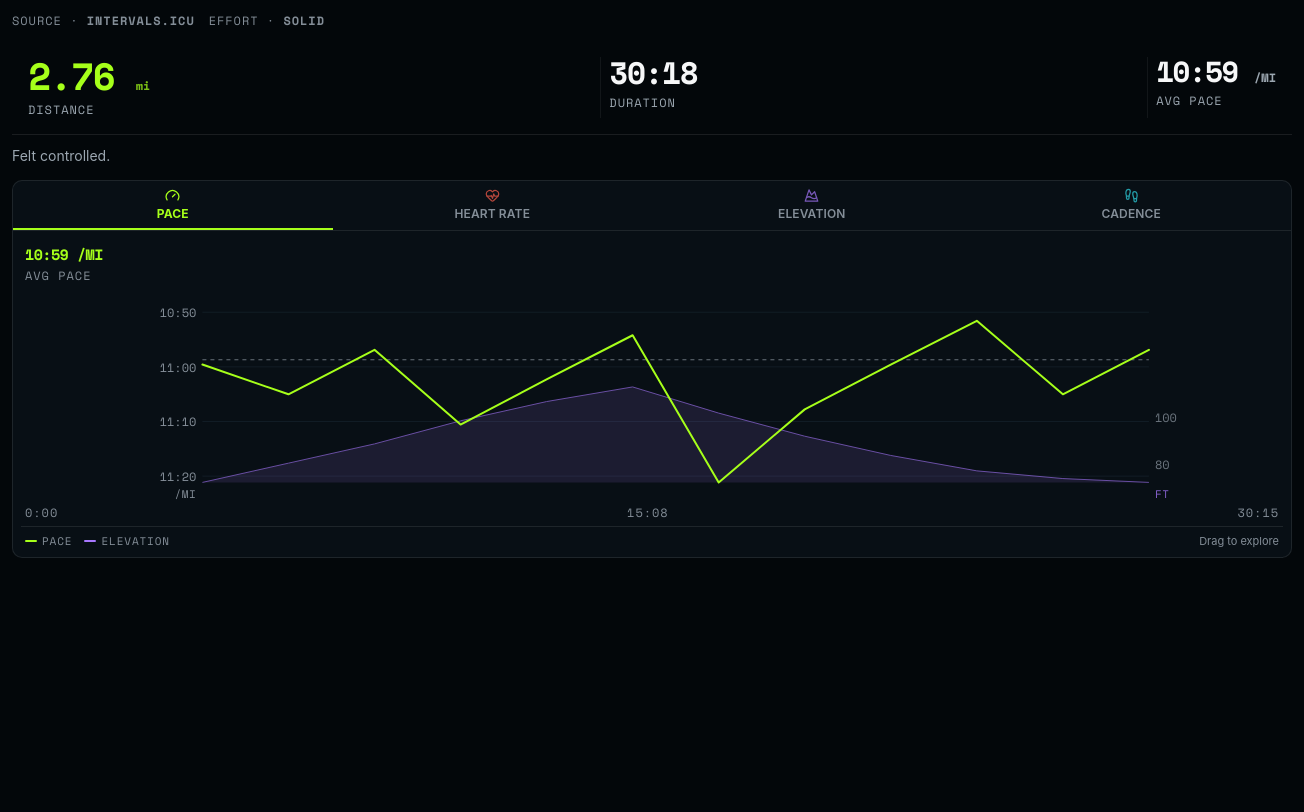
Test: chart scrubbing › draws a crosshair and a marker for the selected point, and clears both on a tap away
The width and height of the screenshot is (1304, 812).
Press the mouse on the slider with class "activity-chart__scrub" at (676, 397), box [202,292,1149,502]
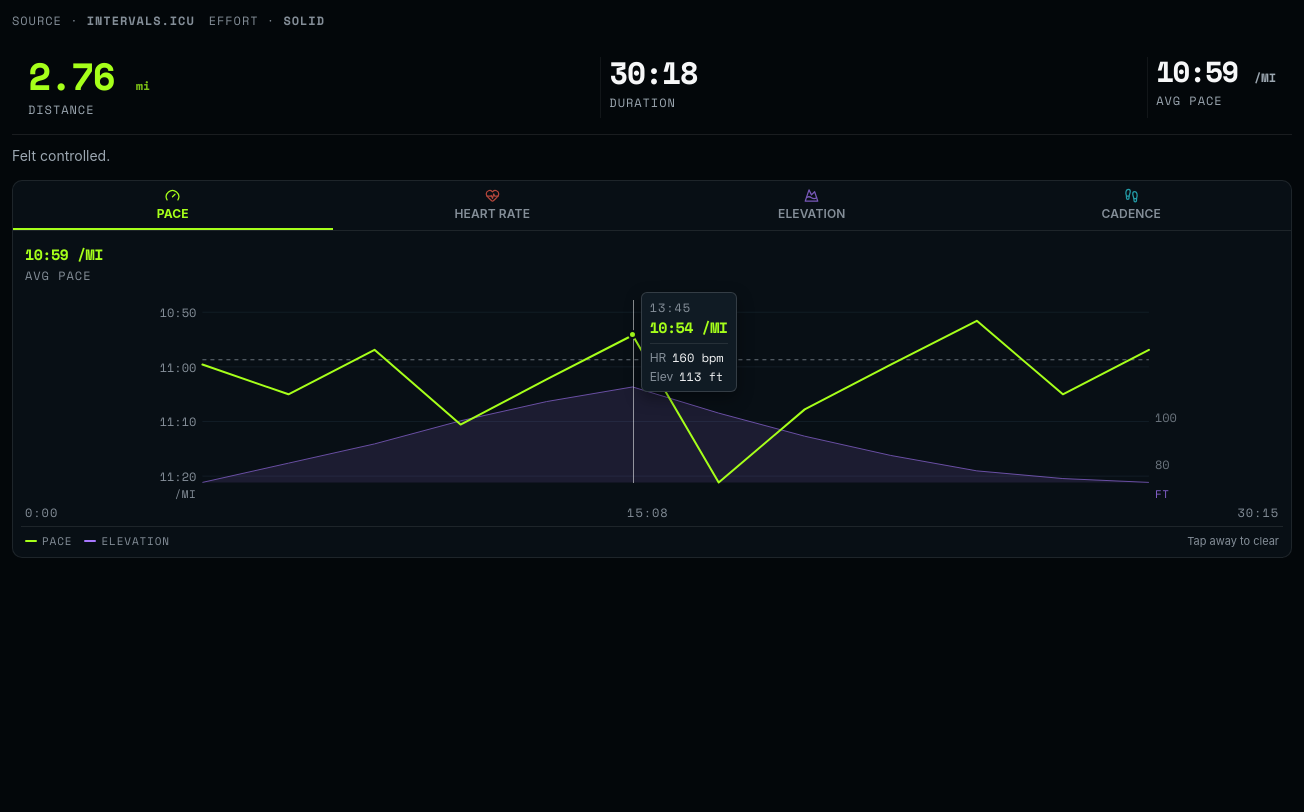
expect the element with class "activity-chart__marker" is shown: met, box [628,330,637,340]
Press the mouse on the element that starts with "Source" at (652, 412), box [12,12,1292,811]
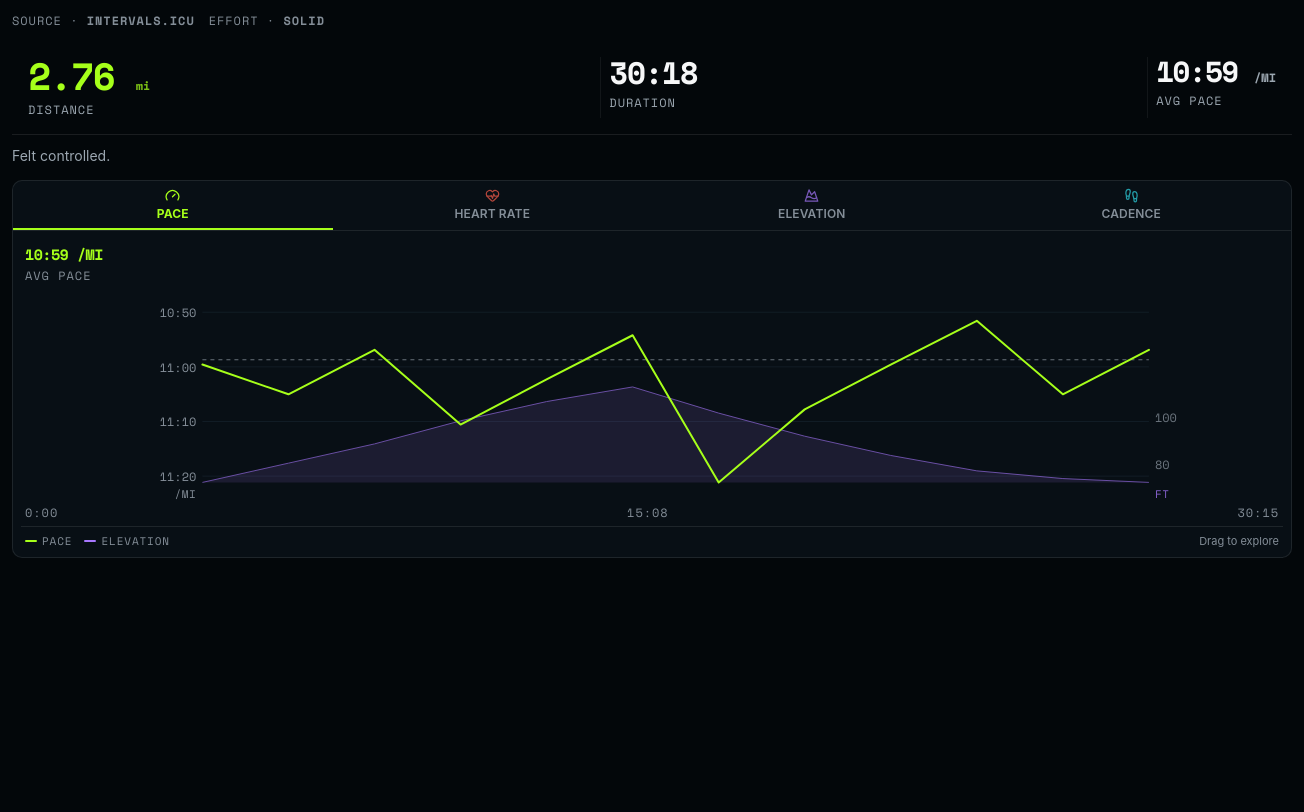
expect the element with class "activity-chart__callout" is gone: met
